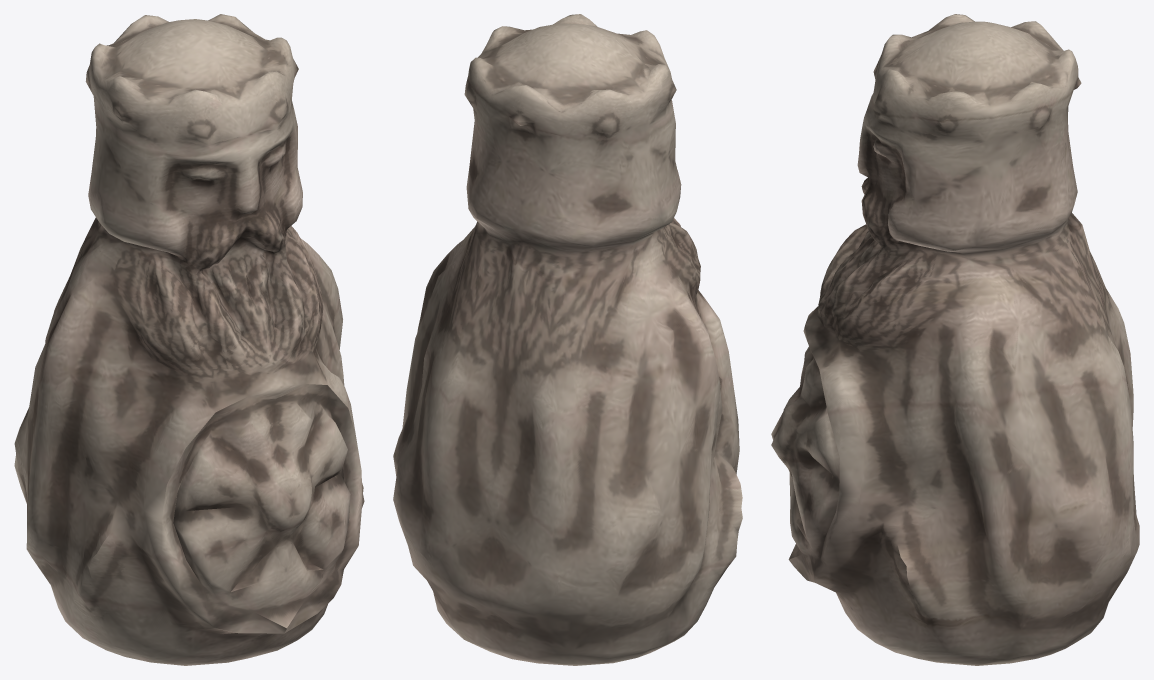
File: Sweden_King.fbx
The picture shows the model from 3 angles, left to right: view 1: azimuth 30°, elevation 25°; view 2: azimuth 150°, elevation 25°; view 3: azimuth 270°, elevation 25°; orthographic projection.
Visible parts, largest first — view 1: SwedenKing; view 2: SwedenKing; view 3: SwedenKing.
Part boxes in pixels (x1,y1,x2,y2): SwedenKing: (14, 14, 364, 665); SwedenKing: (393, 14, 742, 665); SwedenKing: (771, 14, 1139, 665).
Size of the model in its own units: 6.67 by 12.65 by 7.09.
Materials: 1 (1 with a texture image).
